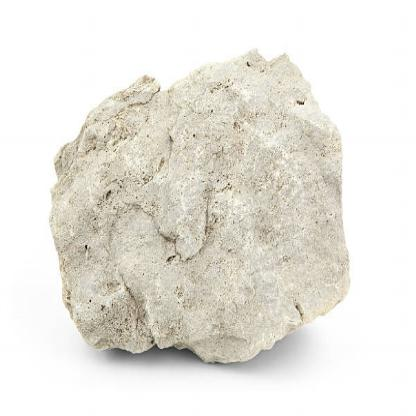Sedimentary_Limestone: (39, 29, 358, 369)
